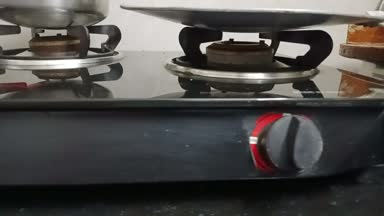noflame_gason: (183, 24, 331, 179)
